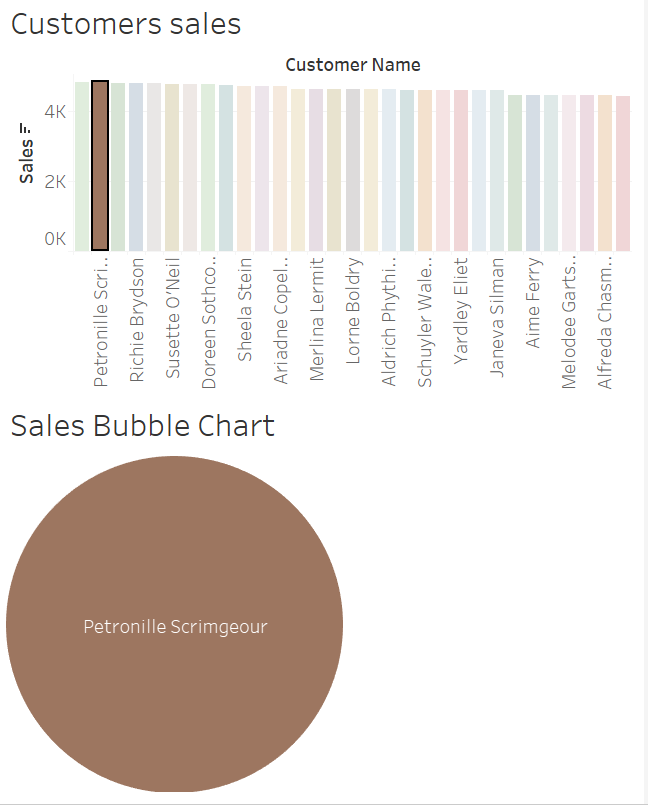

What the dashboard file says about the page in this screenshot:
{"tool":"tableau","page":{"name":"Little Lemon Sales Dashboard","canvas":[650,860],"ordinal":0},"visuals":[{"type":"worksheet","title":"Customers sales","mark":"Automatic","rows":["Sales"],"cols":["Customer Name"],"box":[8,8.4,634,421.6]},{"type":"worksheet","title":"Sales Bubble Chart","mark":"Circle","box":[8,430,634,421.6]}]}

Visuals, with their boxes on the page's 650x860 design canvas (x1, y1, x2, y2). These are canvas units, not pixel positions in the 648x805 screenshot, which may show the page scaled, cropped or inside an application window:
"Customers sales" worksheet: 8, 8, 642, 430
"Sales Bubble Chart" worksheet (Circle marks): 8, 430, 642, 852
